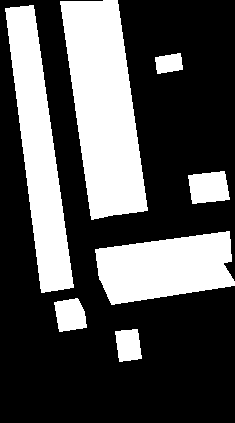parkingspot: (5, 5, 73, 292), (60, 1, 120, 219), (87, 0, 147, 214), (95, 231, 231, 279), (99, 260, 235, 304), (188, 171, 229, 203), (54, 298, 86, 331), (115, 329, 141, 361), (155, 53, 182, 73)
